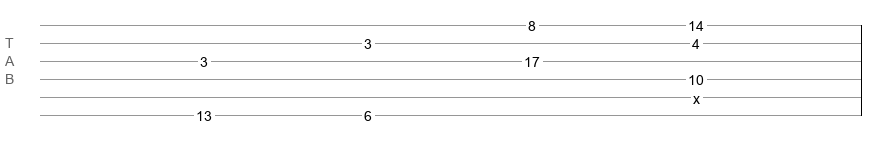10: (688, 72, 704, 82)
13: (196, 108, 212, 118)
14: (688, 18, 704, 28)
17: (524, 54, 540, 64)
3: (200, 54, 208, 64), (364, 36, 372, 46)
4: (692, 36, 700, 46)
6: (364, 108, 372, 118)
8: (528, 18, 536, 28)
x: (693, 91, 700, 99)
